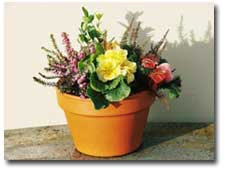tire: (56, 78, 158, 158)
